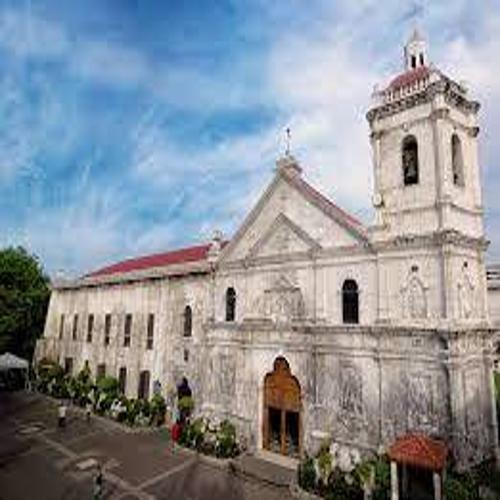Sto. Nino Basilica Church: (212, 19, 499, 490)
